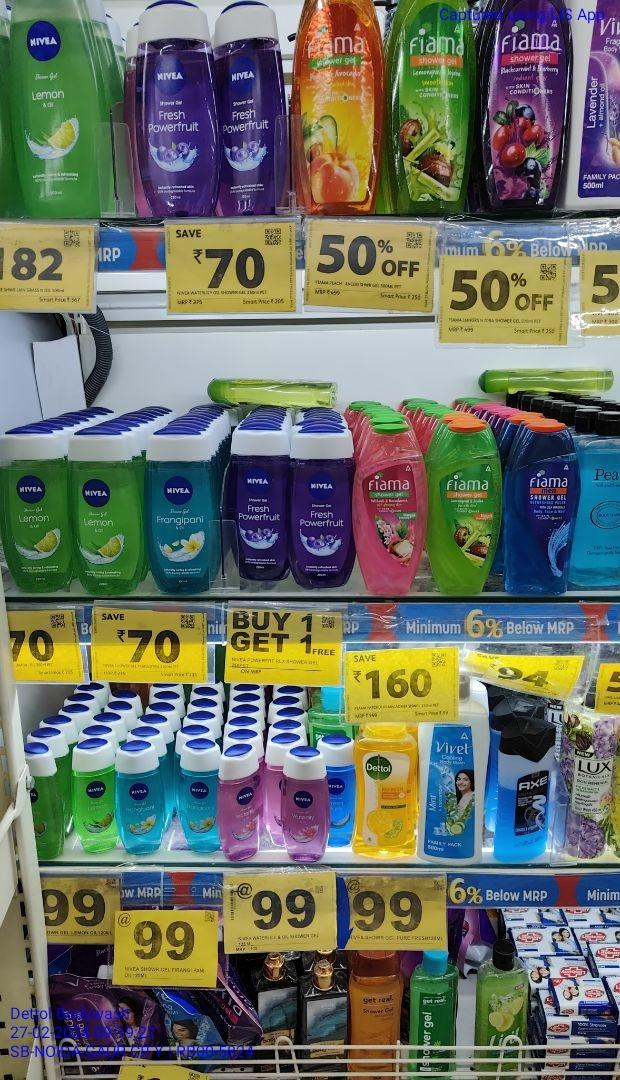Dettol_Bodywash_Refresh: (357, 725, 421, 860)
Fiama_Shower_Gel_Lemongrass_and_Jojoba_250ML: (392, 0, 470, 217), (430, 412, 499, 594)
Fiama_Shower_Gel_Patchouli_and_Macadamia_250ML: (357, 417, 421, 597)
Fiama_Shower_Gel_Peach_and_Avocado_250ML: (297, 0, 380, 214)
Get_Real_Shower_Gel_Moisturising_Glycerin_300ML: (351, 947, 401, 1080)
Liril_Lime_and_Tea_Tree_Oil_Body_Wash_250ML: (480, 935, 528, 1080)
Nivea_Shower_Gel_Frangipani_and_Oil_250ML: (145, 426, 227, 598), (116, 743, 162, 855), (180, 744, 218, 859)
Nivea_Shower_Gel_Fresh_Powerfruit_250ML: (138, 0, 216, 219), (219, 2, 285, 219), (291, 426, 354, 592), (232, 421, 288, 589)
Nivea_Shower_Gel_Lemon_and_Oil_250ML: (10, 0, 107, 219), (1, 423, 71, 599), (73, 428, 140, 592), (70, 739, 116, 854)
Nivea_Shower_Gel_Waterlily_and_Oil_250ML: (283, 752, 326, 866), (222, 749, 259, 862)
Pears_Pure_Glycerin_and_Mint_Extracts_Body_Wash_250ML: (581, 406, 620, 592)
